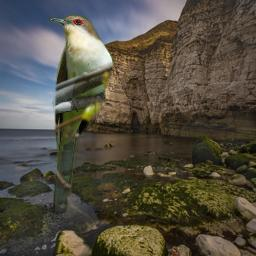Cuckoo: (48, 14, 115, 213)
